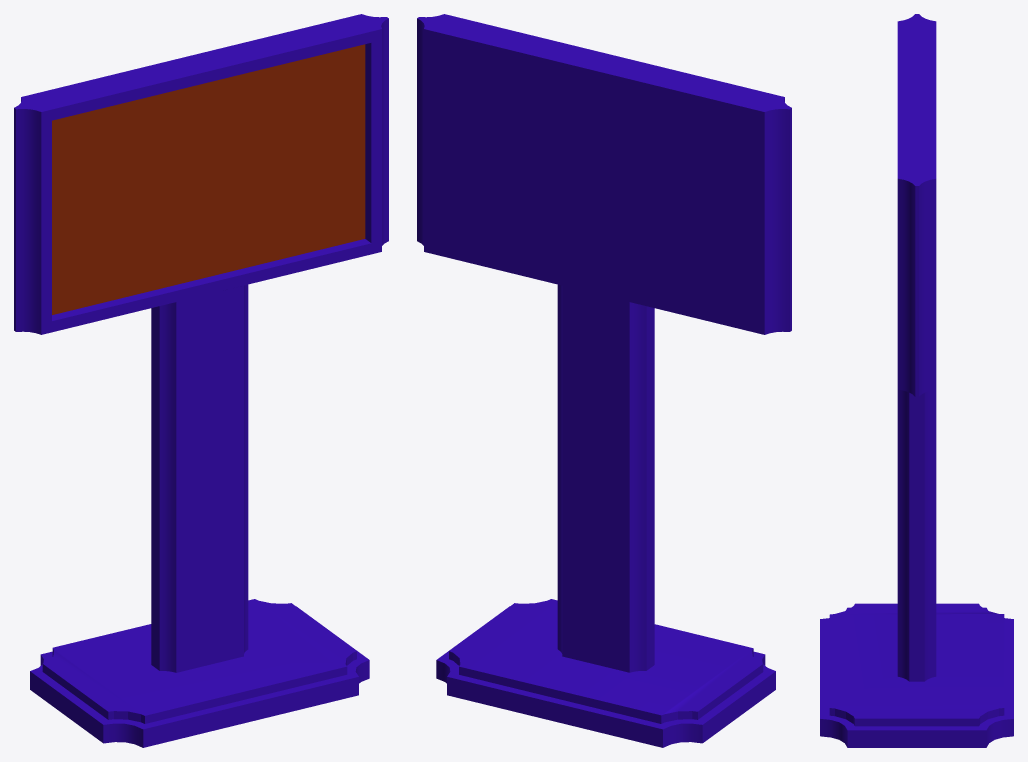
File: Terminal.fbx
The picture shows the model from 3 angles, left to right: view 1: azimuth 30°, elevation 25°; view 2: azimuth 150°, elevation 25°; view 3: azimuth 270°, elevation 25°; orthographic projection. The views are drawn at different scales.
Visible parts, largest first — view 1: Box001; view 2: Box001; view 3: Box001.
Boxes of the visible parts, <box> form: Box001: <box>14,14,388,747</box>; Box001: <box>417,14,791,747</box>; Box001: <box>820,14,1013,747</box>.
Size of the model in its own units: 41.34 by 65.79 by 19.69.
